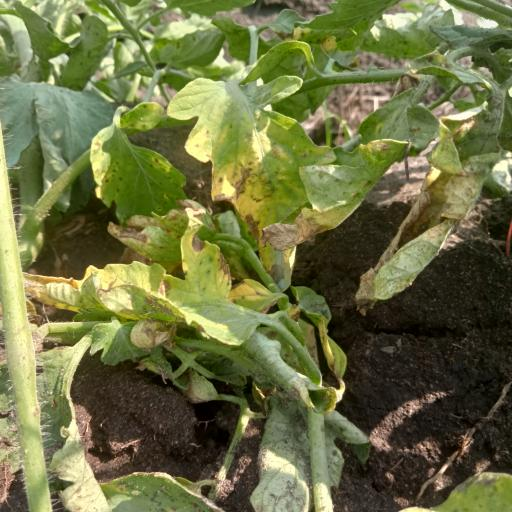Tomato_Brown_Spots: (176, 36, 341, 282), (20, 232, 270, 346)
